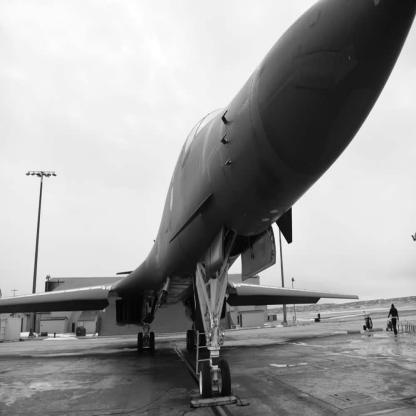B1: (2, 2, 416, 401)
